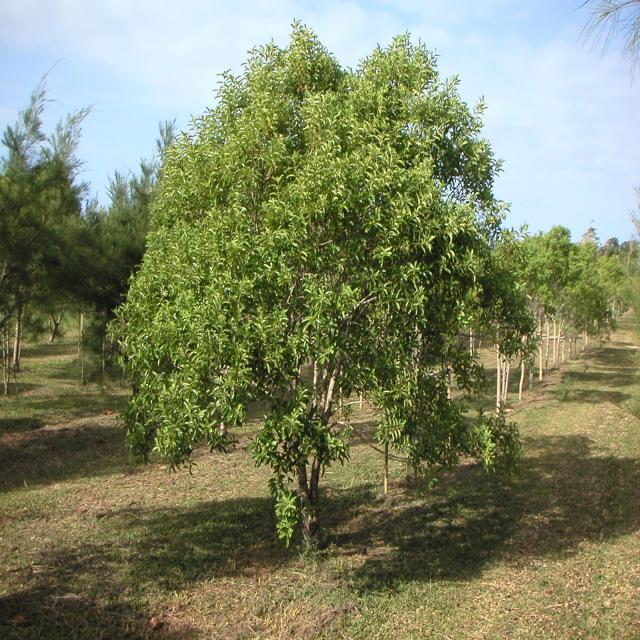Medicinal-Sandalwood: (107, 2, 521, 561)
